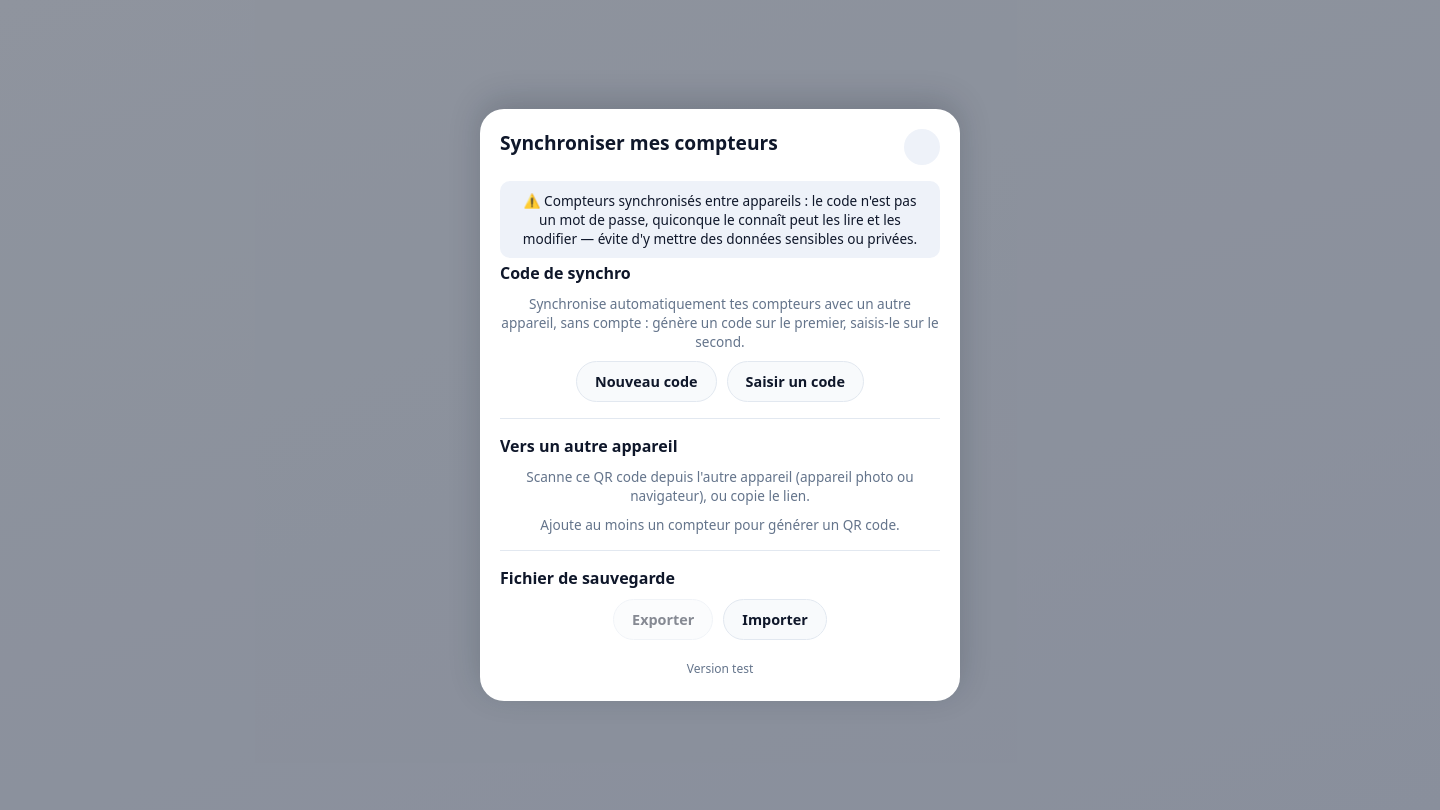
Test case: SyncPanel › code de synchro › avec un worker configuré (VITE_SYNC_WORKER_URL) › préfère le message d'erreur précis du hook au message générique quand il est disponible
Click the button "Saisir un code" at (795, 382), box [727,361,864,402]
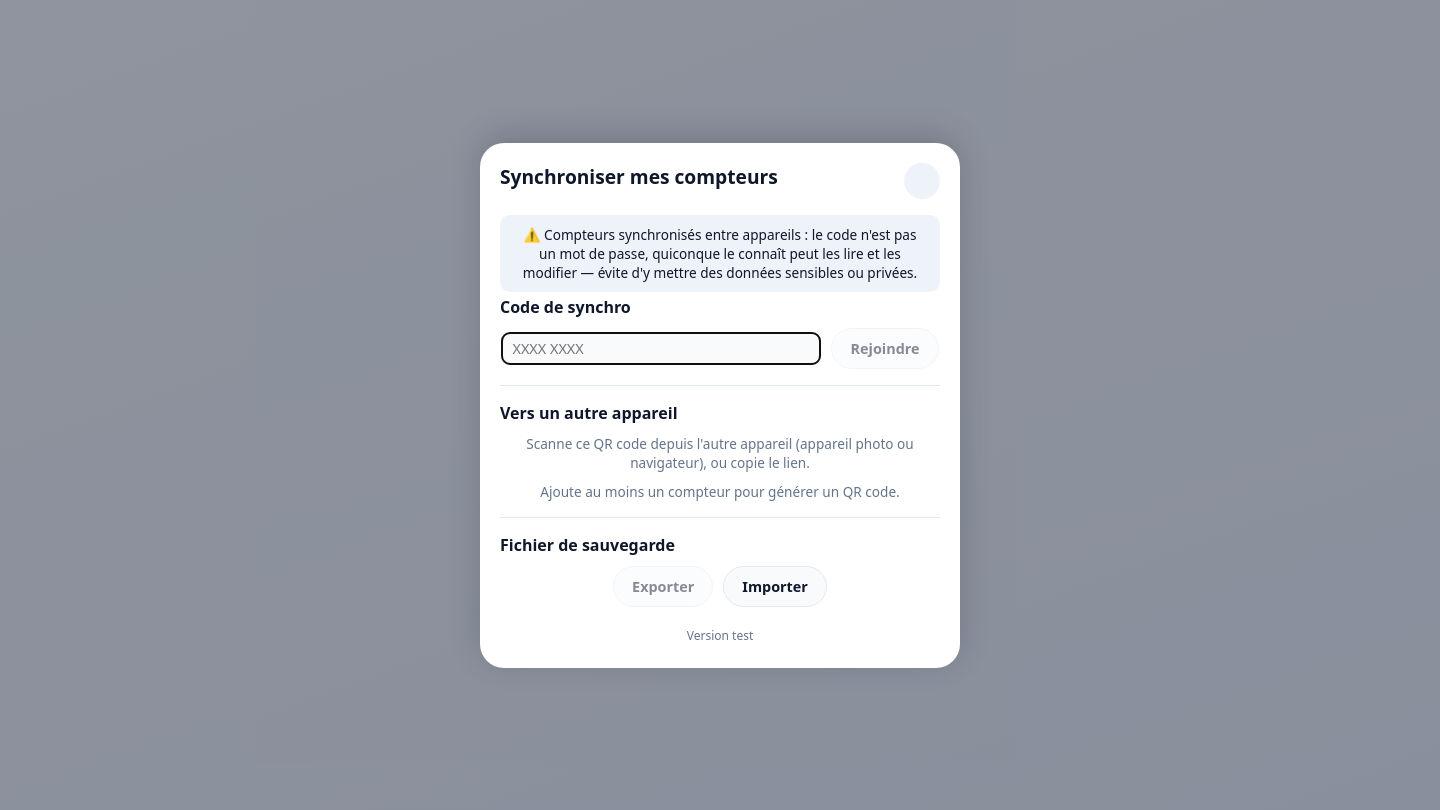
Type "ABCDEFGH" into the field with placeholder "XXXX XXXX" at (662, 348), box [502,332,822,364]
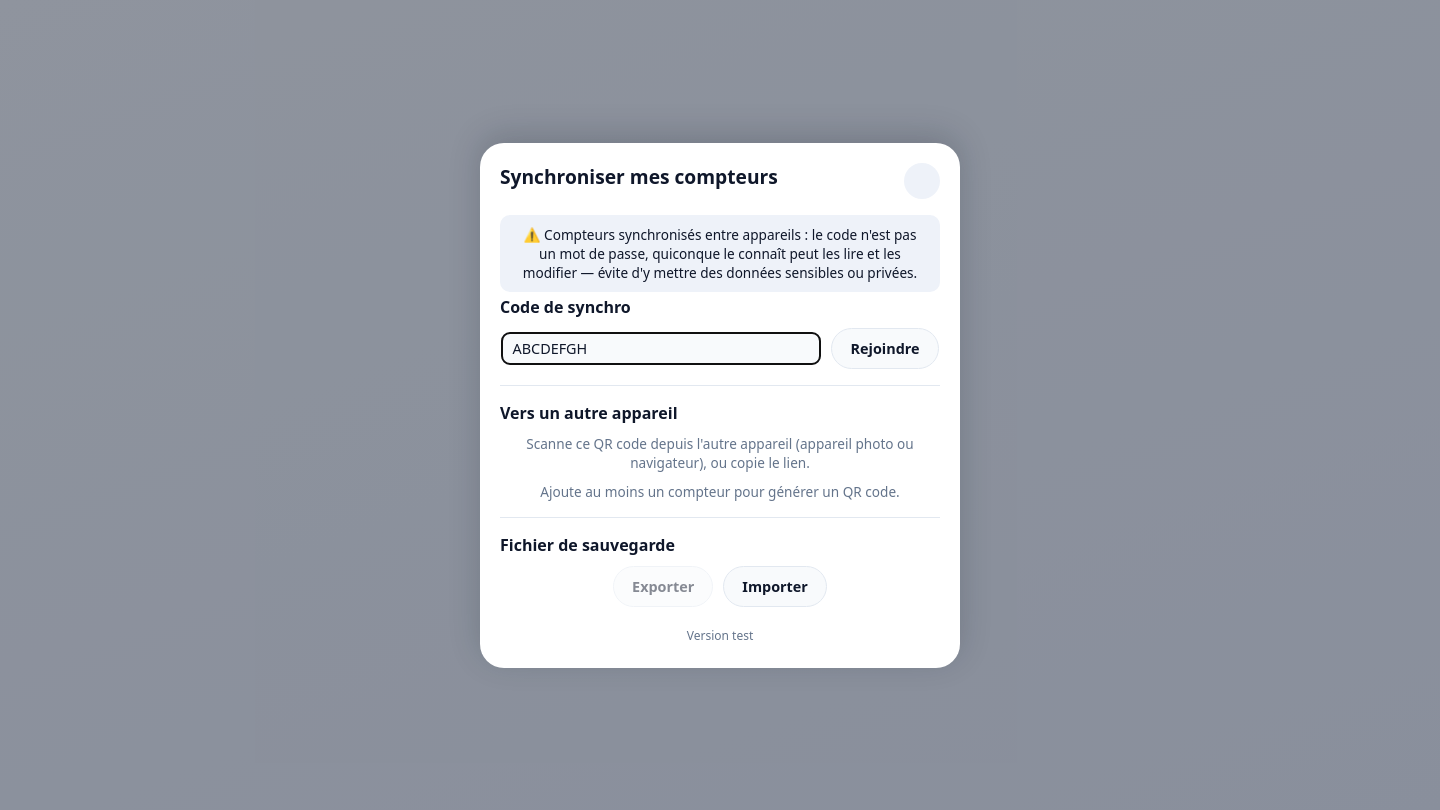
Click the button "Rejoindre" at (885, 348), box [832,328,938,368]
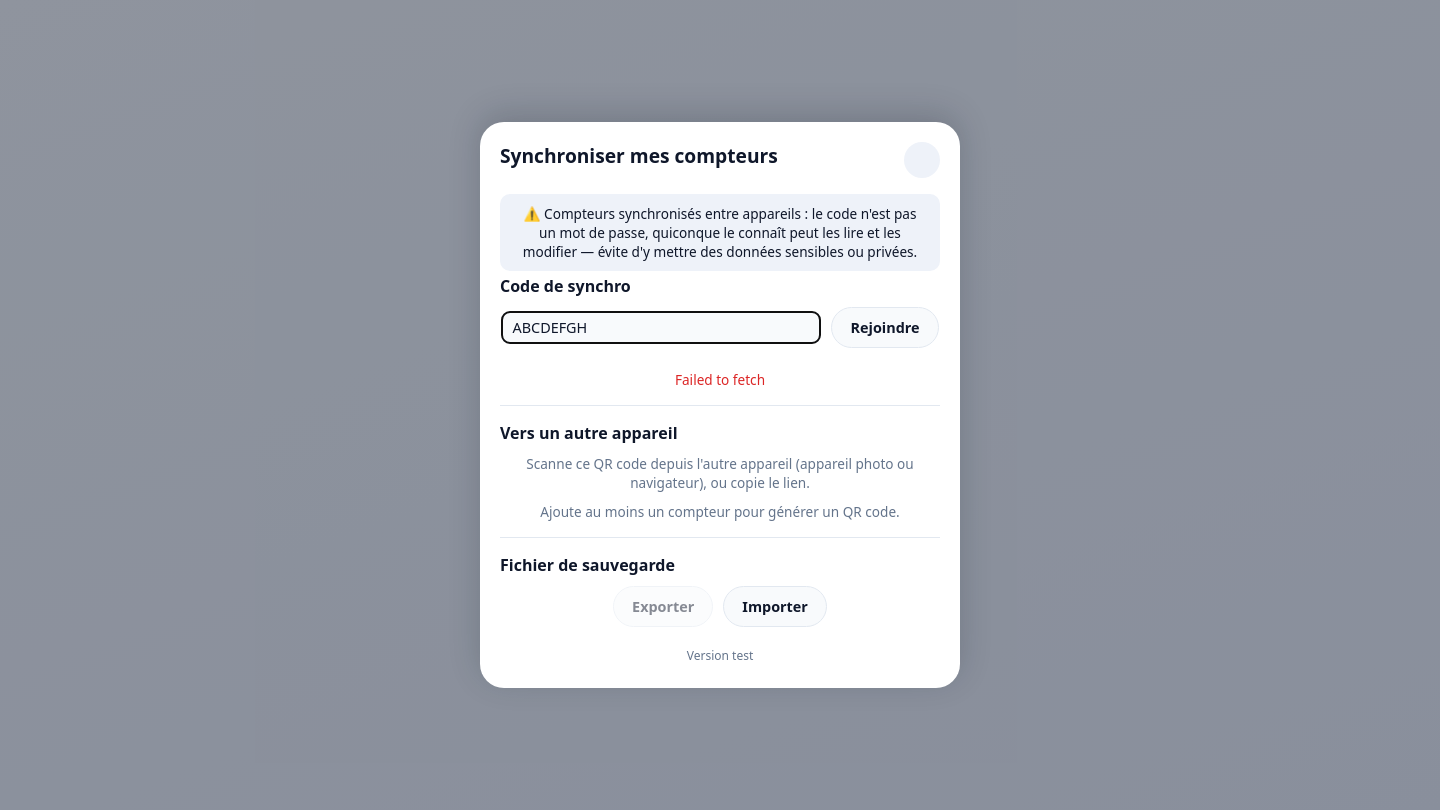
Expected: the text "Failed to fetch" is shown, [675,370,765,389]
